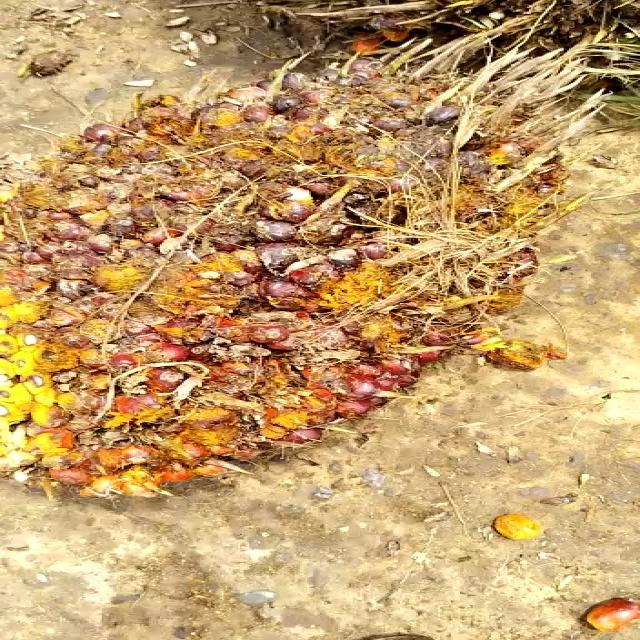palm oil: (0, 41, 573, 523)
